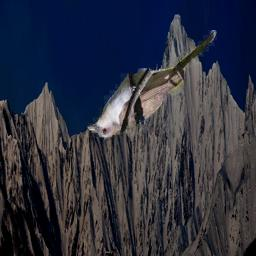Cuckoo: (87, 30, 217, 138)
